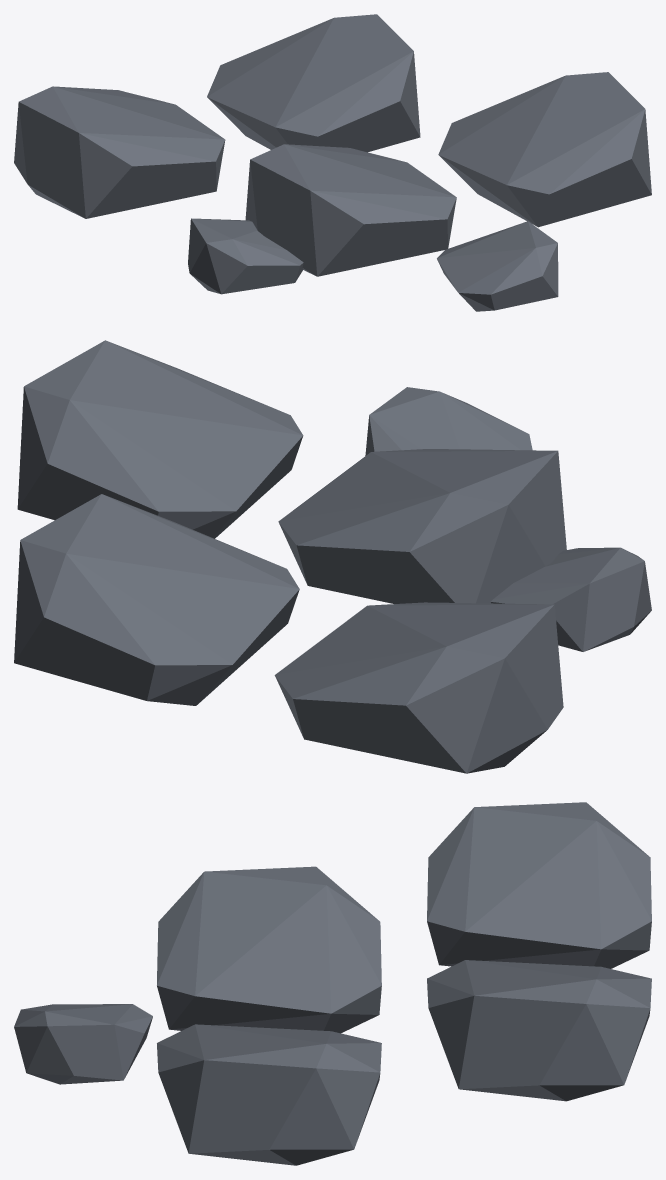
File: Pebbel_T2.fbx
The picture shows the model from 3 angles, top to bottom: view 1: azimuth 30°, elevation 25°; view 2: azimuth 150°, elevation 25°; view 3: azimuth 270°, elevation 25°; orthographic projection. The views are drawn at different scales.
Visible parts, largest first — view 1: Pebbel_T2; view 2: Pebbel_T2; view 3: Pebbel_T2.
Boxes of the visible parts, x1=… form: Pebbel_T2: x1=14, y1=14, x2=651, y2=311; Pebbel_T2: x1=14, y1=340, x2=651, y2=773; Pebbel_T2: x1=14, y1=802, x2=651, y2=1165.
Size of the model in its own units: 71.71 by 13.98 by 69.28.
